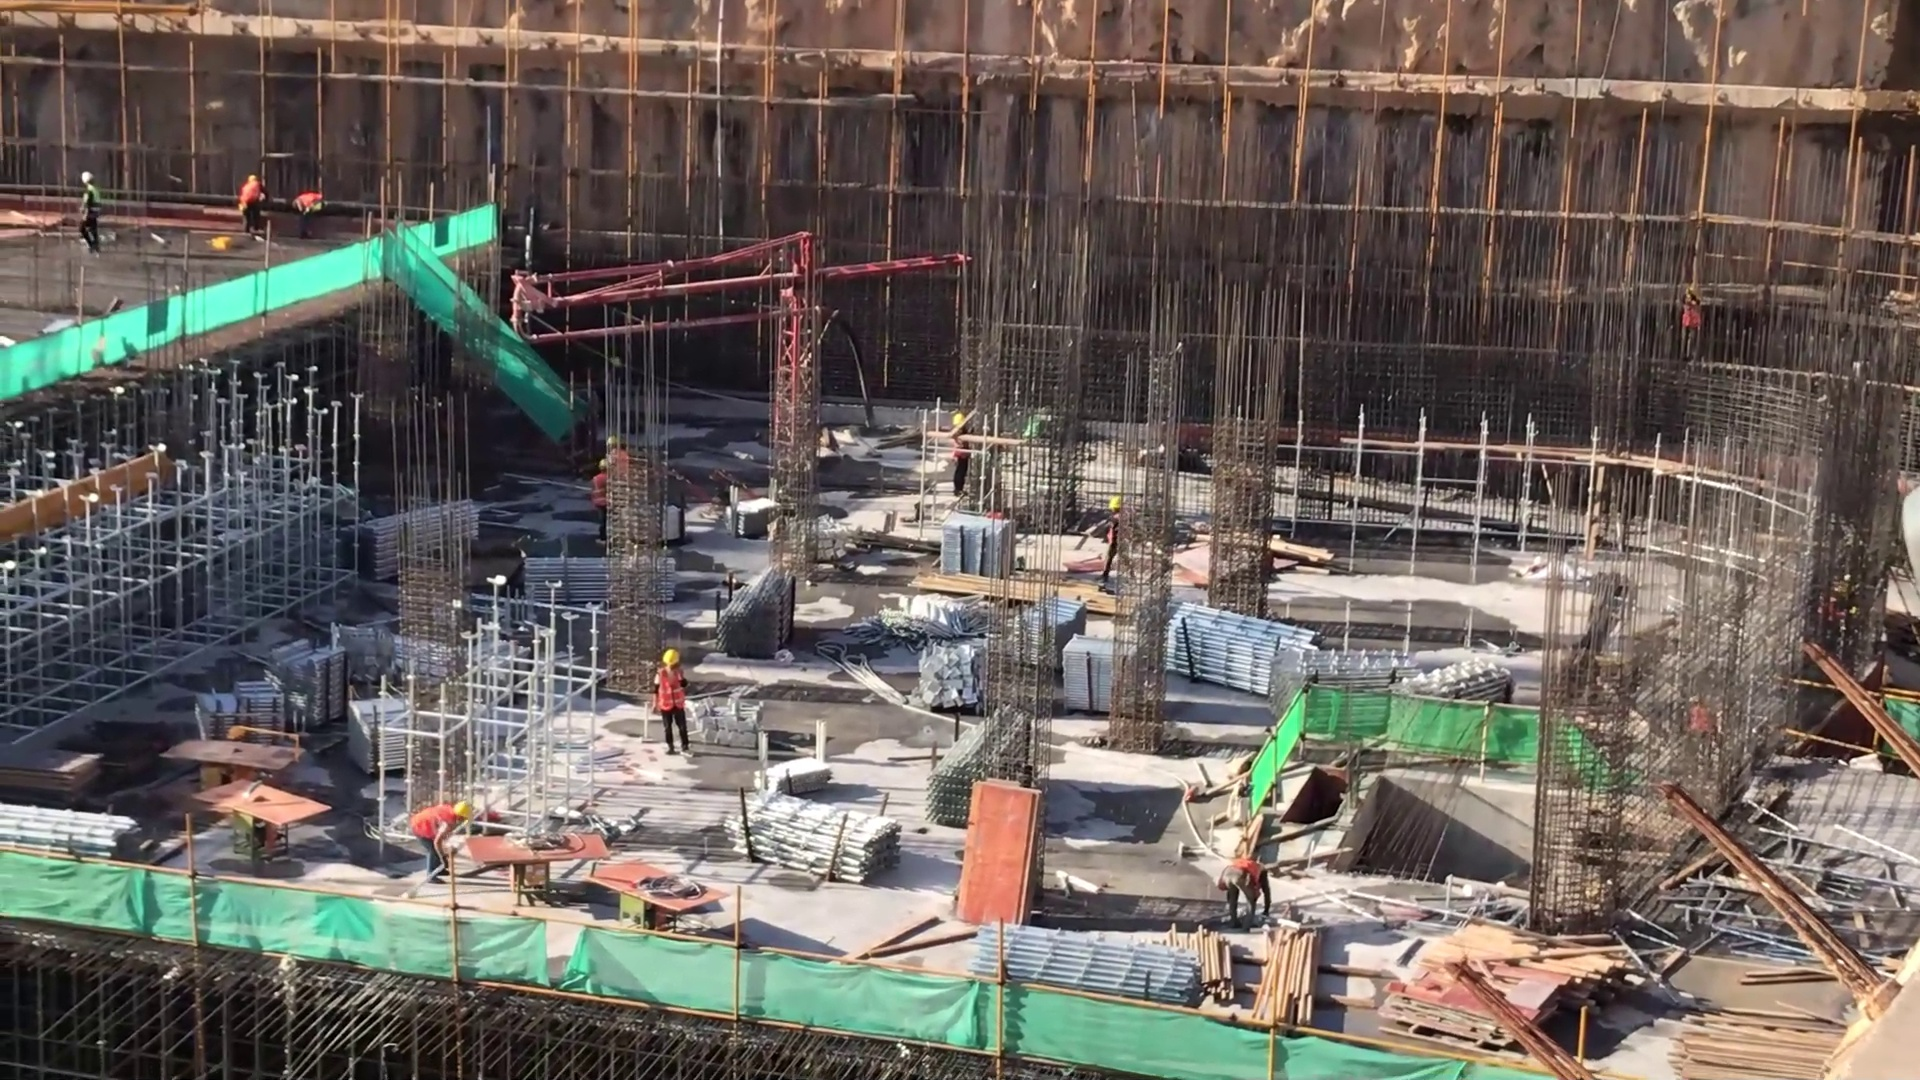board: (946, 774, 1048, 934), (1367, 960, 1581, 1030), (1, 746, 108, 802)
cutter: (572, 851, 728, 939), (194, 776, 338, 869), (467, 820, 616, 909), (164, 736, 303, 798)
helmet: (661, 647, 685, 674), (455, 796, 474, 827), (948, 411, 973, 432), (80, 166, 100, 187), (596, 458, 614, 478)
person: (400, 790, 466, 885), (649, 643, 697, 768), (938, 405, 984, 526), (1217, 854, 1273, 932), (1100, 494, 1132, 600), (232, 171, 274, 249), (67, 169, 106, 253), (285, 189, 329, 241), (592, 461, 619, 548)
scaffold: (955, 910, 1220, 1012), (707, 787, 921, 895), (1161, 598, 1348, 715), (1247, 632, 1422, 750), (1, 794, 171, 902), (1375, 651, 1518, 775), (927, 703, 1030, 837), (344, 497, 486, 582), (525, 555, 673, 614), (197, 671, 297, 758), (717, 572, 799, 659), (1011, 591, 1094, 669), (275, 634, 346, 726), (344, 695, 417, 776)
vest: (406, 801, 455, 844), (1224, 861, 1266, 903), (655, 669, 688, 716), (80, 181, 101, 226), (241, 177, 261, 212), (594, 475, 613, 509), (297, 193, 322, 214)
wood: (1666, 1006, 1853, 1080)
